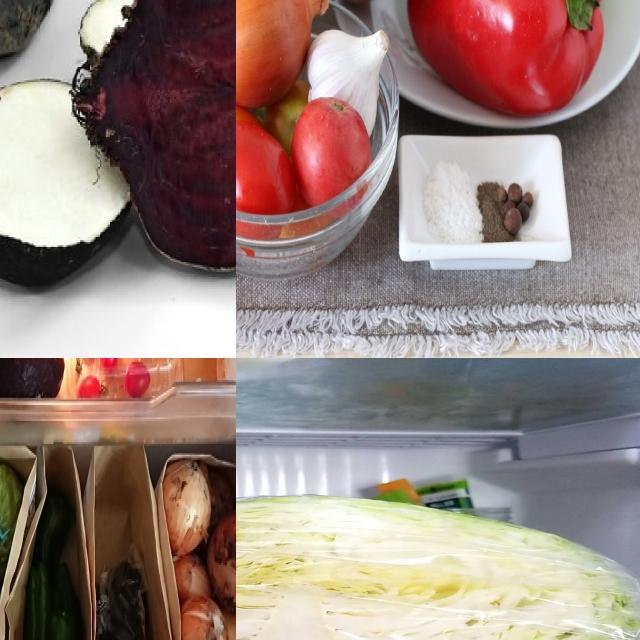beet: (90, 1, 237, 267)
bell_pepper: (412, 1, 640, 129)
cabbage: (237, 493, 640, 640), (1, 455, 30, 537)
garlic: (311, 17, 389, 141)
onion: (237, 1, 335, 102), (164, 462, 210, 554), (211, 510, 237, 613), (179, 597, 230, 640), (173, 554, 213, 602)
tomato: (237, 99, 292, 253)
